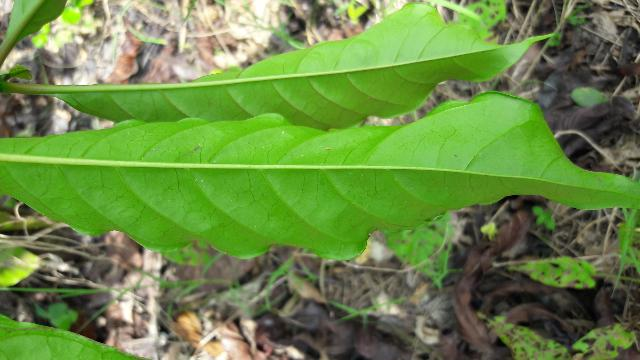healthy: (0, 93, 640, 262)
